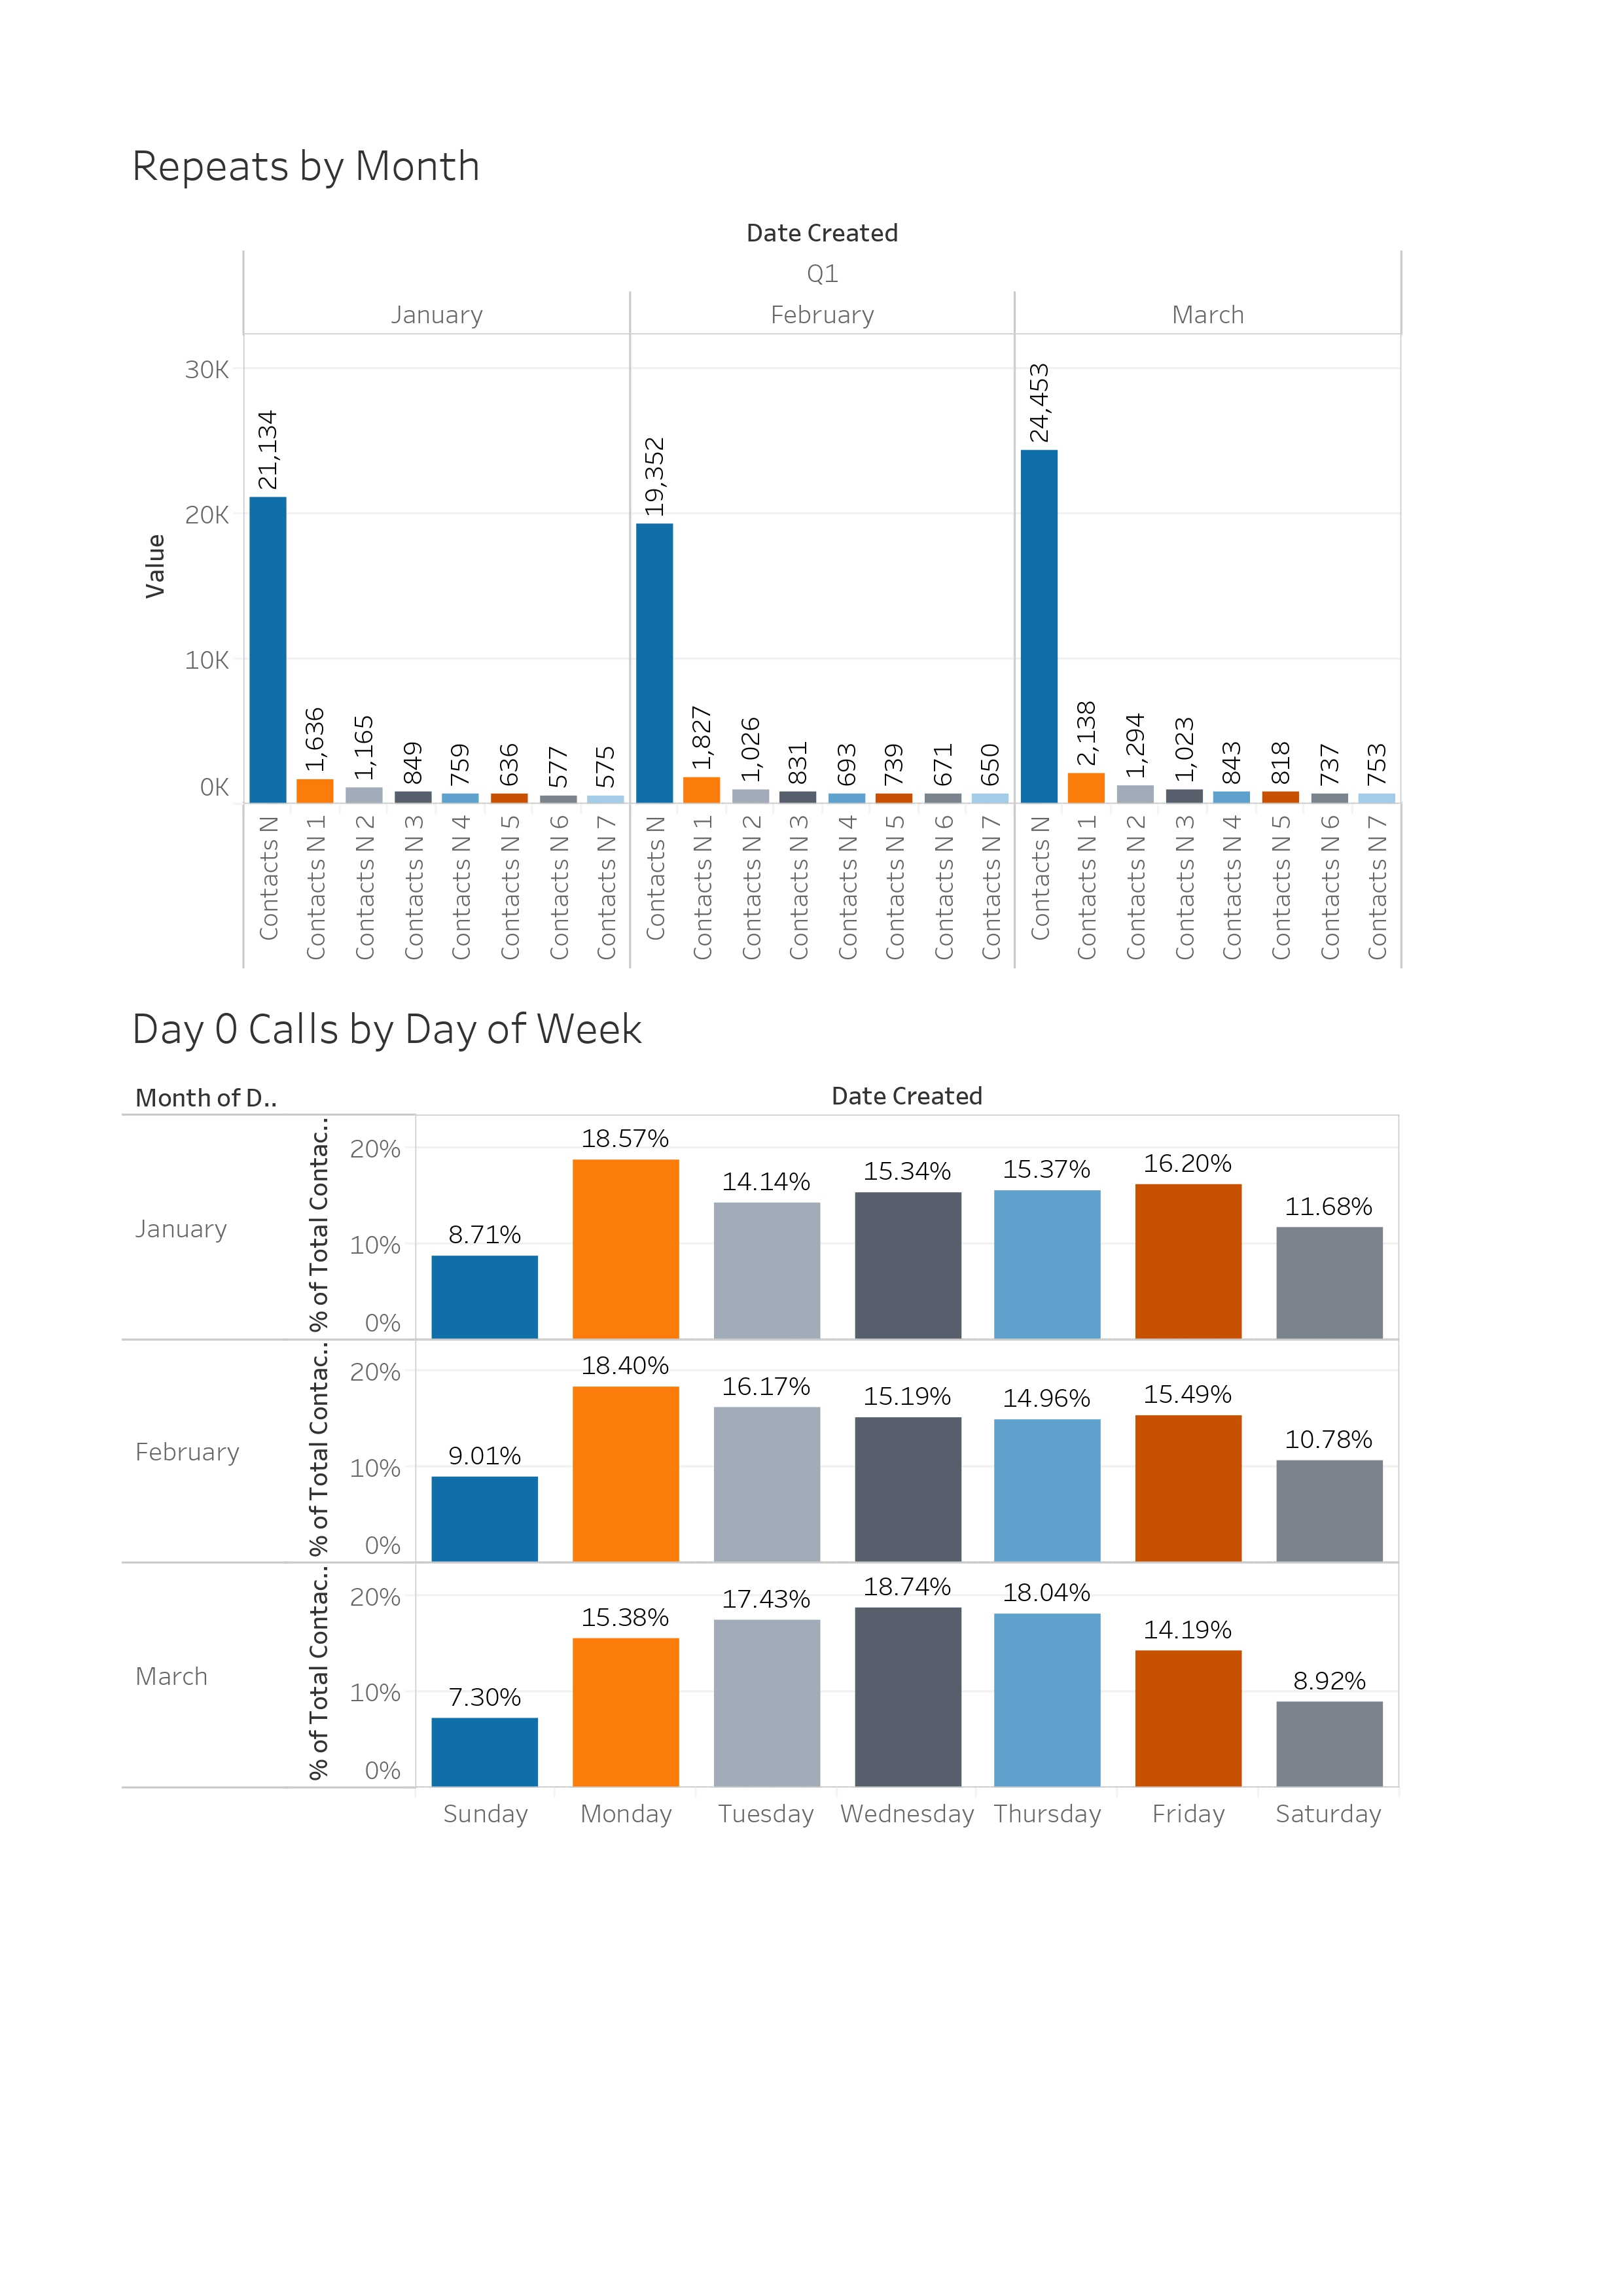

What the dashboard file says about the page in this screenshot:
{"tool":"tableau","page":{"name":"Dashboard 3","canvas":[650,860],"ordinal":2},"visuals":[{"type":"worksheet","title":"Repeats by Month","mark":"Bar","cols":["date_created","date_created"],"box":[8,8,634,422]},{"type":"worksheet","title":"% Day 0 Repeats by Day of Week","mark":"Bar","rows":["date_created"],"cols":["date_created"],"box":[8,430,634,422]}]}

Visuals, with their boxes on the page's 650x860 design canvas (x1, y1, x2, y2). These are canvas units, not pixel positions in the 1623x2296 screenshot, which may show the page scaled, cropped or inside an application window:
"Repeats by Month" worksheet (Bar marks): <region>8, 8, 642, 430</region>
"% Day 0 Repeats by Day of Week" worksheet (Bar marks): <region>8, 430, 642, 852</region>
